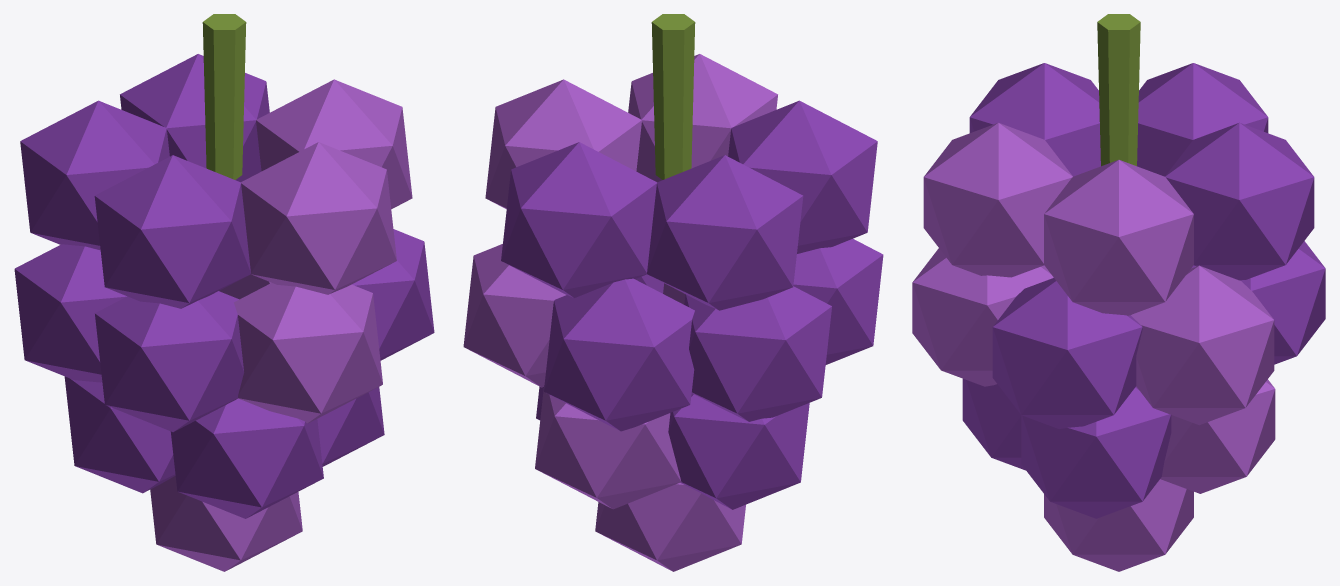
The model's file is GrapeBunch.fbx.
3 views of the same model, side by side, from view 1: azimuth 30°, elevation 25°; view 2: azimuth 150°, elevation 25°; view 3: azimuth 270°, elevation 25° (orthographic).
Visible parts, largest first — view 1: GrapeBunch_Mesh; view 2: GrapeBunch_Mesh; view 3: GrapeBunch_Mesh.
Part boxes in pixels (x1,y1,x2,y2): GrapeBunch_Mesh: (14, 14, 434, 571); GrapeBunch_Mesh: (463, 14, 883, 571); GrapeBunch_Mesh: (912, 14, 1325, 571).
Size of the model in its own units: 0.337 by 0.503 by 0.3424.
